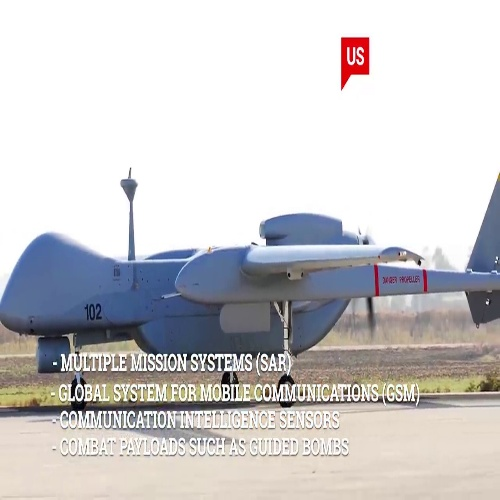uav: (1, 172, 376, 407), (170, 165, 500, 402)
